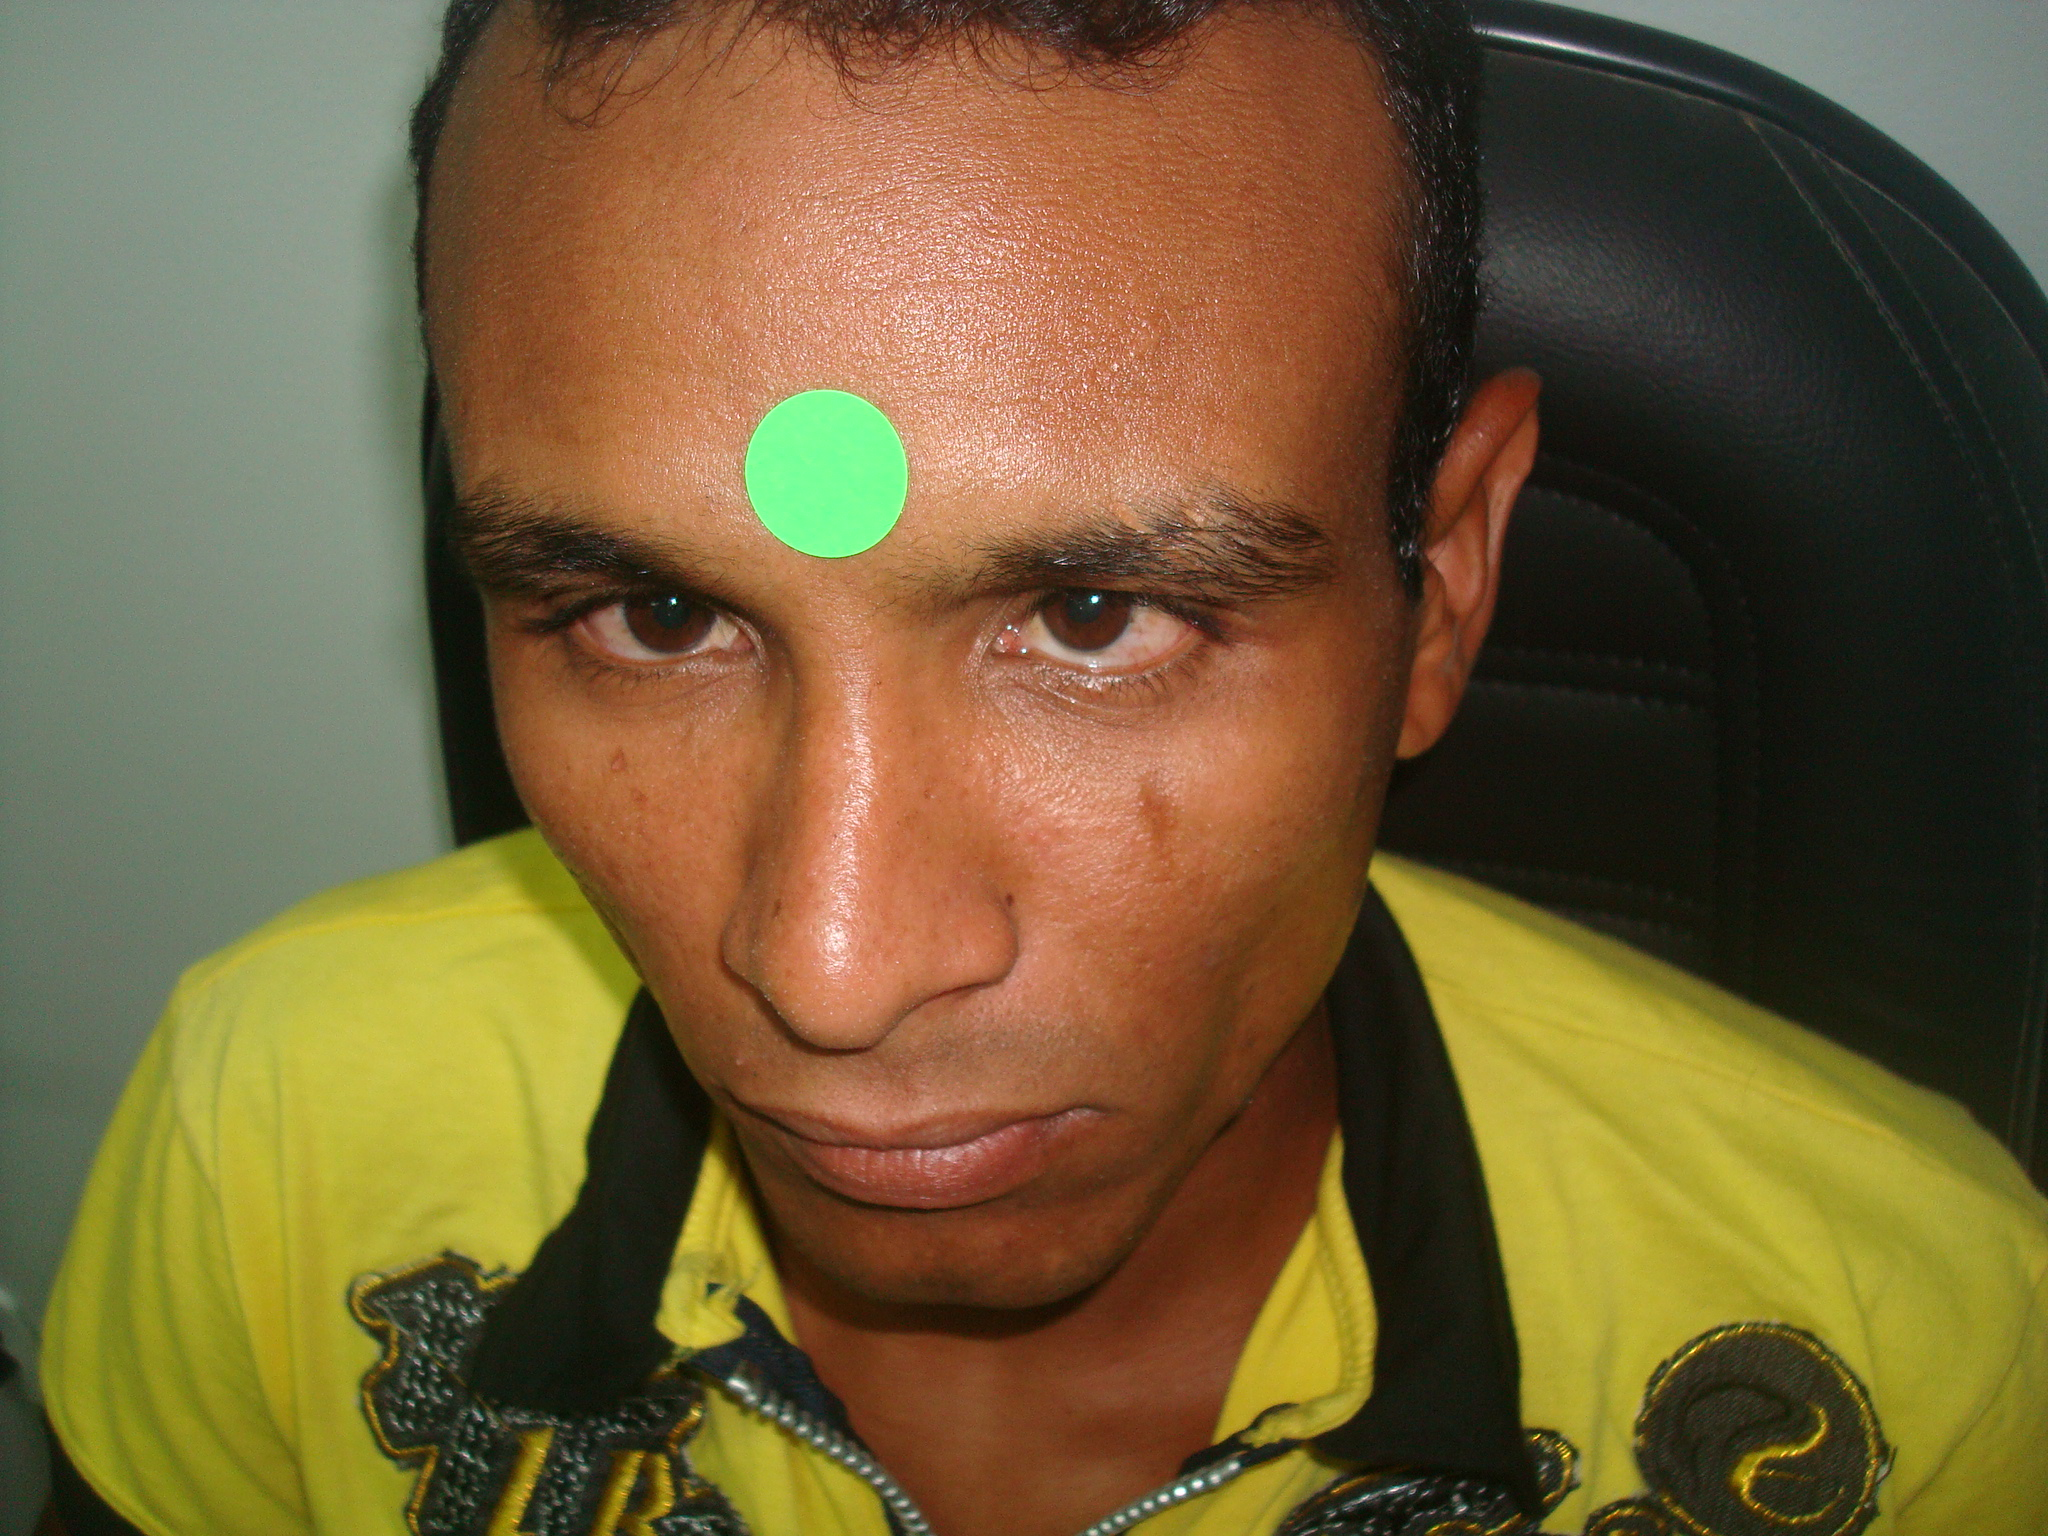flash: (666, 597, 681, 608), (1090, 594, 1100, 605)
limbo: (629, 565, 716, 653), (1040, 565, 1124, 644)
